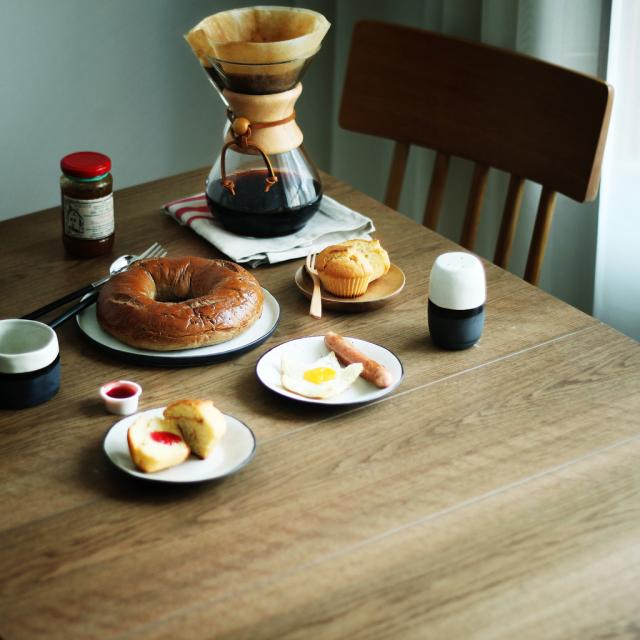non-organic waste: (66, 268, 284, 364), (82, 405, 269, 493), (243, 330, 418, 410), (294, 246, 410, 314)
